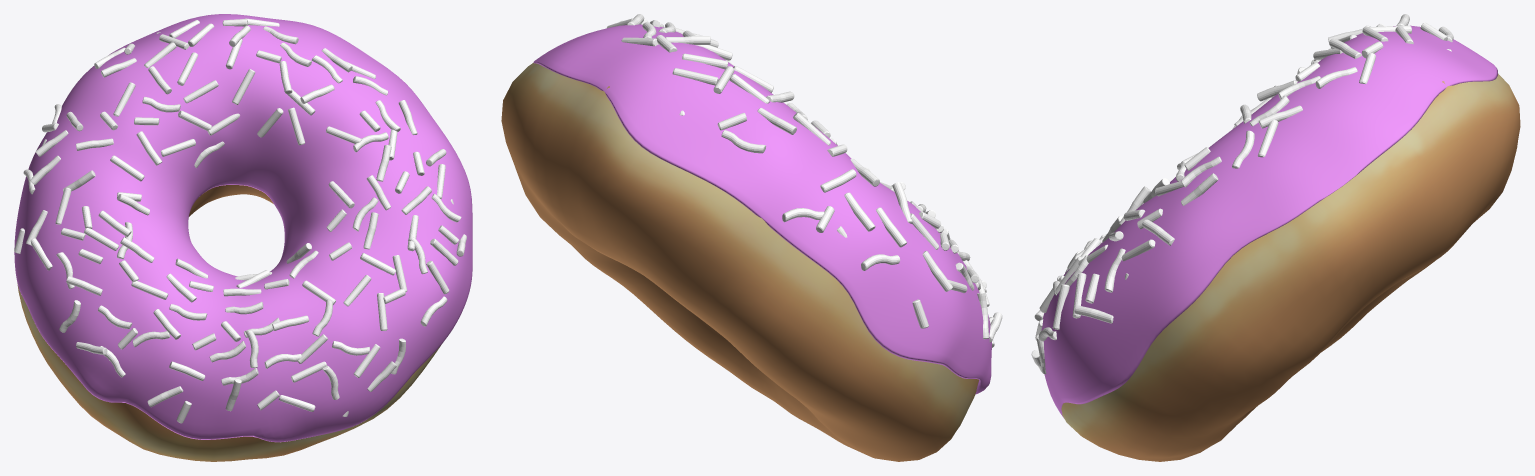
File: donut.glb
3 renders of one model, left to right at view 1: azimuth 30°, elevation 25°; view 2: azimuth 150°, elevation 25°; view 3: azimuth 270°, elevation 25°, orthographic. The views are drawn at different scales.
Visible parts, largest first — view 1: icing, donut; view 2: donut, icing; view 3: donut, icing.
Part boxes in pixels (x1,y1,x2,y2): icing: (14, 14, 472, 442); donut: (17, 185, 442, 461); donut: (501, 63, 978, 461); icing: (533, 14, 1002, 394); donut: (1061, 74, 1520, 461); icing: (1031, 14, 1497, 417).
Bounding box in the file's own units: 1.15 × 1.02 × 1.05.
3 materials, 1 textured.
